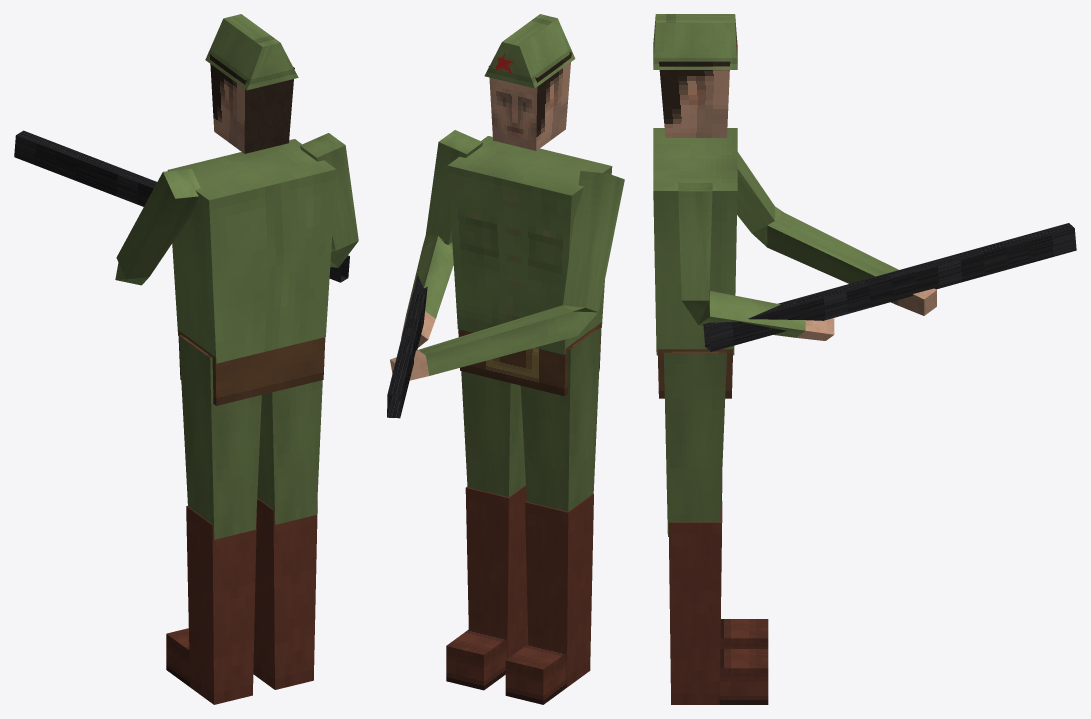
File: guardf.obj
3 renders of one model, left to right at view 1: azimuth 30°, elevation 25°; view 2: azimuth 150°, elevation 25°; view 3: azimuth 270°, elevation 25°, orthographic. The views are drawn at different scales.
Visible parts, largest first — view 1: torso, shin_r, thigh_r, shin_l, thigh_l, head, hips, arm_r, rifle, cap, arm_l; view 2: torso, shin_r, shin_l, thigh_r, thigh_l, forearm_r, arm_r, head, cap, hips, arm_l, forearm_l (+1 smaller); view 3: shin_l, torso, rifle, thigh_l, forearm_r, head, cap, arm_l, forearm_l, arm_r, shin_r, hips.
Part boxes in pixels (<box>): torso: <box>167,139,336,363</box>; shin_r: <box>166,505,256,704</box>; thigh_r: <box>179,334,261,539</box>; shin_l: <box>253,498,317,689</box>; thigh_l: <box>257,380,322,524</box>; head: <box>210,54,294,153</box>; hips: <box>178,330,325,405</box>; arm_r: <box>116,169,200,279</box>; rifle: <box>14,130,349,282</box>; cap: <box>205,14,298,90</box>; arm_l: <box>300,133,358,250</box>; torso: <box>447,136,612,354</box>; shin_r: <box>505,493,593,704</box>; shin_l: <box>446,485,528,690</box>; thigh_r: <box>520,327,600,511</box>; thigh_l: <box>461,371,525,497</box>; forearm_r: <box>390,305,597,380</box>; arm_r: <box>563,171,624,312</box>; head: <box>488,52,571,150</box>; cap: <box>484,14,575,88</box>; hips: <box>458,322,601,396</box>; arm_l: <box>425,130,482,244</box>; forearm_l: <box>401,235,453,347</box>; shin_l: <box>668,501,768,704</box>; torso: <box>653,128,737,355</box>; rifle: <box>703,223,1076,351</box>; thigh_l: <box>663,351,726,536</box>; forearm_r: <box>752,206,936,315</box>; head: <box>659,61,730,137</box>; cap: <box>653,14,737,69</box>; arm_l: <box>678,183,712,300</box>; forearm_l: <box>682,291,834,340</box>; arm_r: <box>737,152,774,232</box>; shin_r: <box>720,475,768,648</box>; hips: <box>657,349,733,398</box>.
Size of the model in its own units: 39.57 by 122 by 70.59.
Materials: 15 (15 with a texture image).
